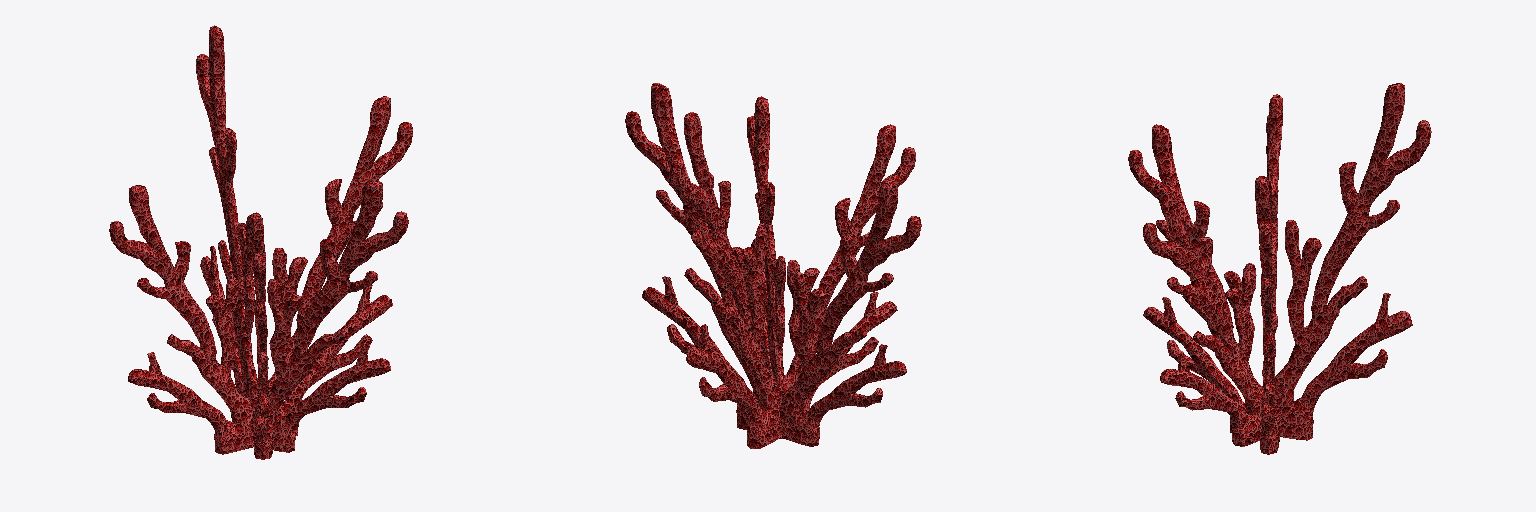
3 renders of one model, left to right at view 1: azimuth 30°, elevation 25°; view 2: azimuth 150°, elevation 25°; view 3: azimuth 270°, elevation 25°, orthographic.
Visible parts, largest first — view 1: Sketchfab_Model.018; view 2: Sketchfab_Model.018; view 3: Sketchfab_Model.018.
Boxes of the visible parts, x1=… form: Sketchfab_Model.018: x1=109, y1=25, x2=412, y2=459; Sketchfab_Model.018: x1=625, y1=83, x2=921, y2=448; Sketchfab_Model.018: x1=1128, y1=83, x2=1431, y2=454.
Size of the model in its own units: 0.2818 by 0.3264 by 0.2466.
1 materials, 1 textured.